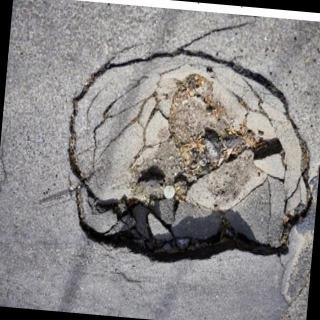pothole: (68, 54, 311, 262)
